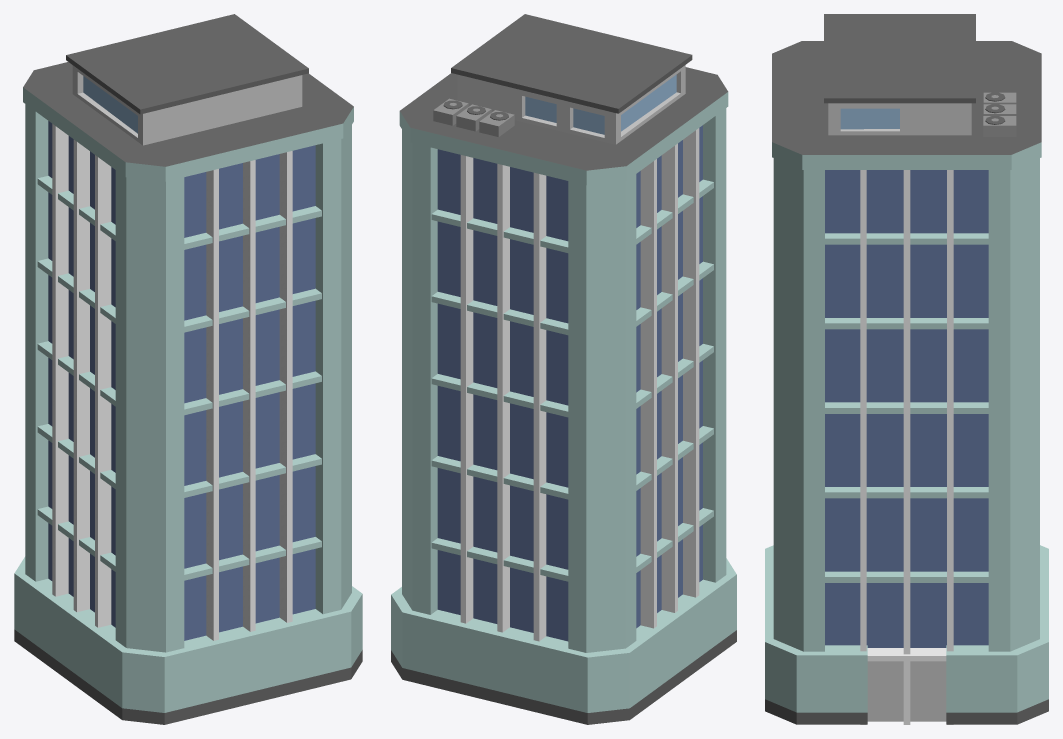
Rendered from house_middle_007.fbx.
3 renders of one model, left to right at view 1: azimuth 30°, elevation 25°; view 2: azimuth 150°, elevation 25°; view 3: azimuth 270°, elevation 25°, orthographic. The views are drawn at different scales.
Parts seen in each view (by area): view 1: house_middle_007; view 2: house_middle_007; view 3: house_middle_007.
Part boxes in pixels (x1,y1,x2,y2): house_middle_007: (14,14,362,724); house_middle_007: (391,14,736,724); house_middle_007: (765,14,1048,724).
Bounding box in the file's own units: 757 × 1798 × 758.
